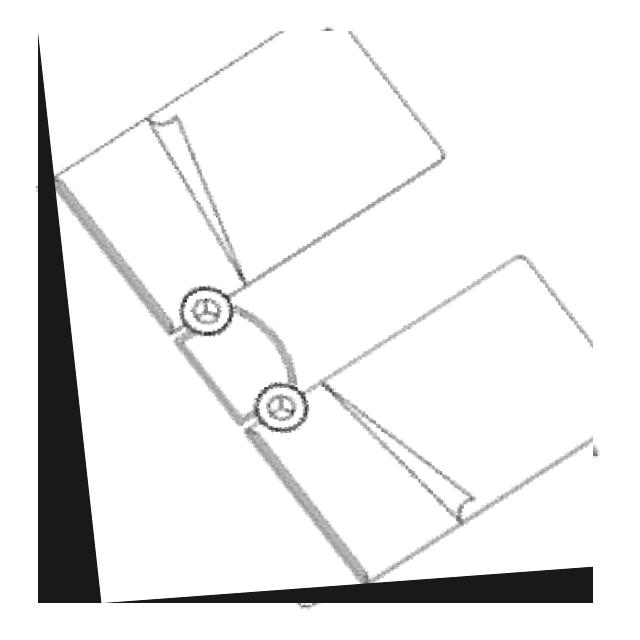bed: (38, 31, 593, 603)
